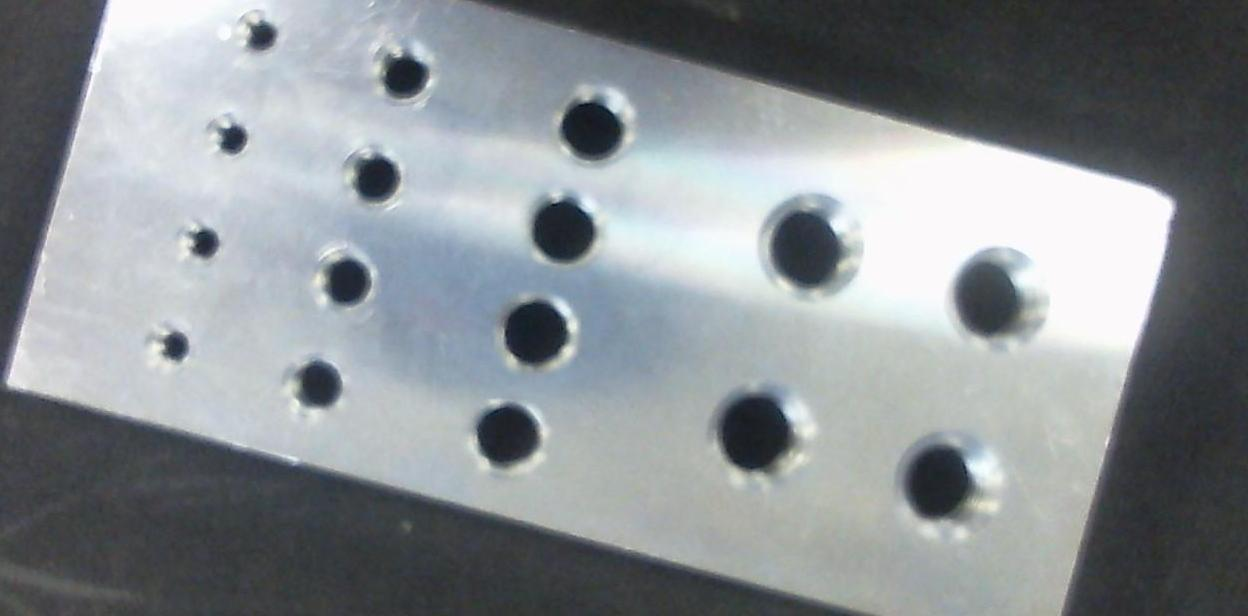hole: (742, 166, 870, 321), (942, 230, 1062, 370), (698, 358, 822, 491), (887, 410, 998, 556), (547, 65, 640, 176), (488, 284, 590, 379), (455, 392, 554, 480), (518, 192, 621, 273), (362, 30, 444, 118), (330, 138, 414, 220), (304, 242, 386, 318), (280, 346, 362, 422), (166, 210, 246, 274), (199, 99, 270, 167), (138, 312, 210, 378), (229, 2, 292, 68)
